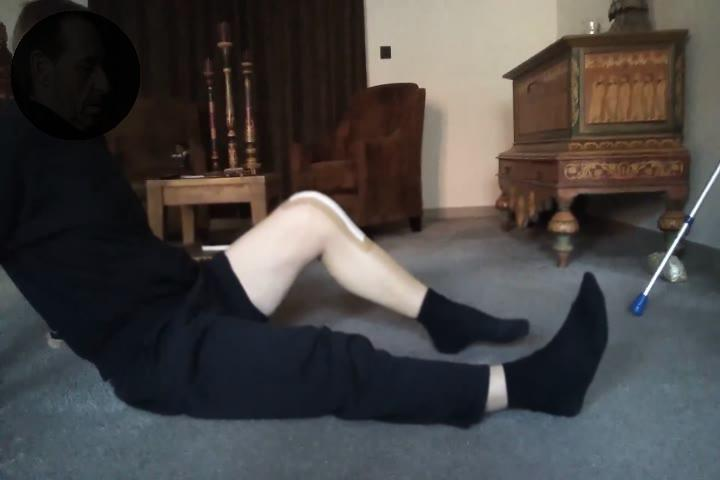lowerbody: (109, 181, 617, 442)
